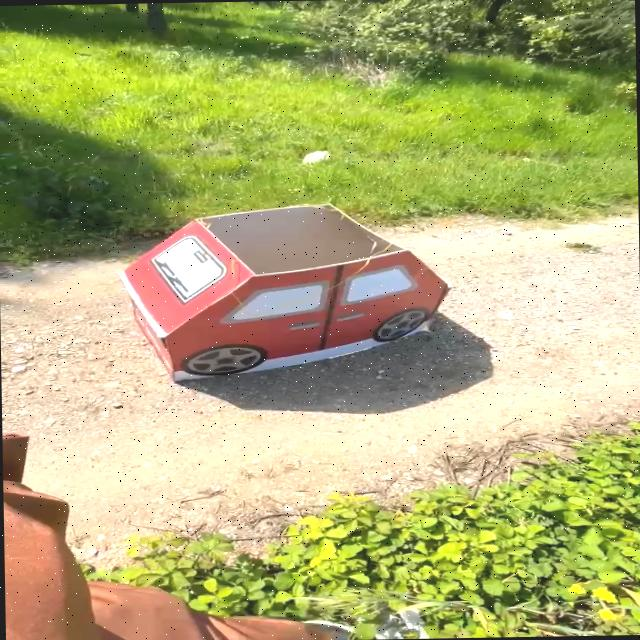red_car: (66, 191, 478, 398)
